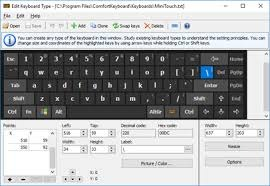keyboard: (3, 51, 249, 121)
